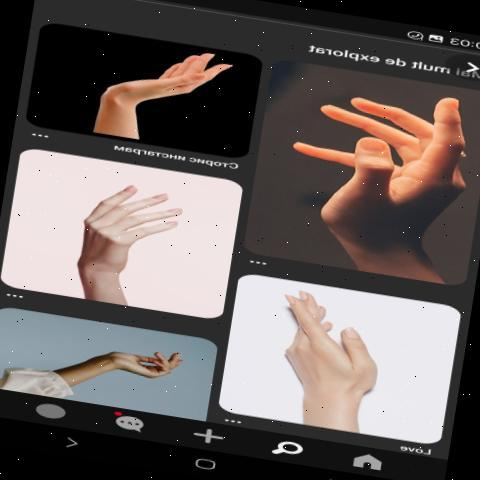Hands: (272, 89, 474, 262), (254, 281, 394, 429), (56, 178, 216, 304), (74, 46, 240, 134), (77, 332, 189, 384)
